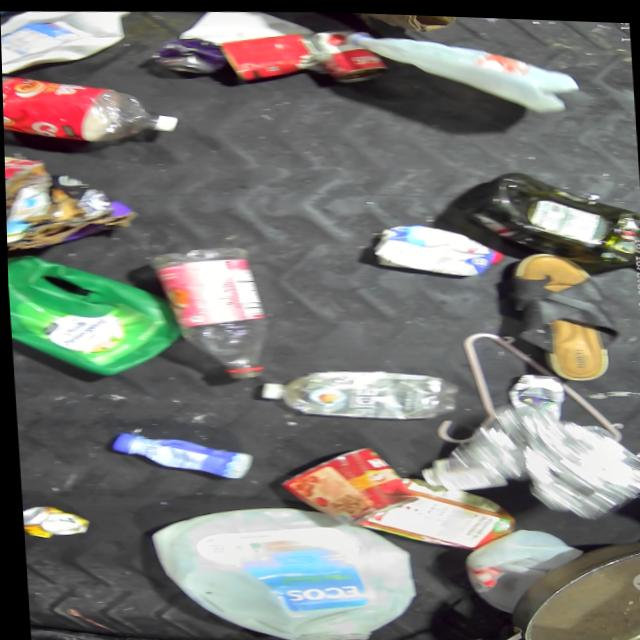can: (311, 23, 392, 84), (146, 34, 228, 75), (18, 503, 88, 540)
milk_jug: (142, 496, 416, 640), (343, 18, 580, 117), (457, 521, 584, 615), (0, 6, 144, 79)
non_white_jug: (6, 247, 184, 381)
plastic_bottle: (2, 68, 181, 147), (181, 242, 271, 381), (0, 9, 59, 29)
